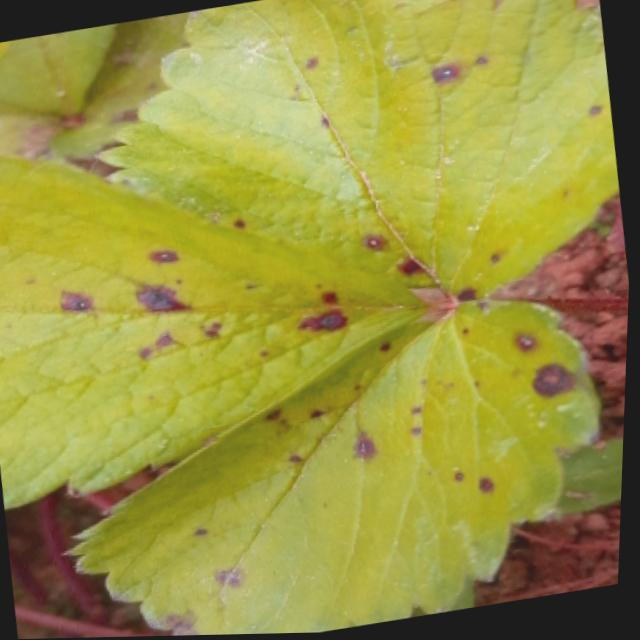Leaf Spot: (65, 303, 603, 637), (97, 0, 621, 307), (0, 152, 438, 509), (54, 12, 191, 161), (0, 23, 120, 121)
